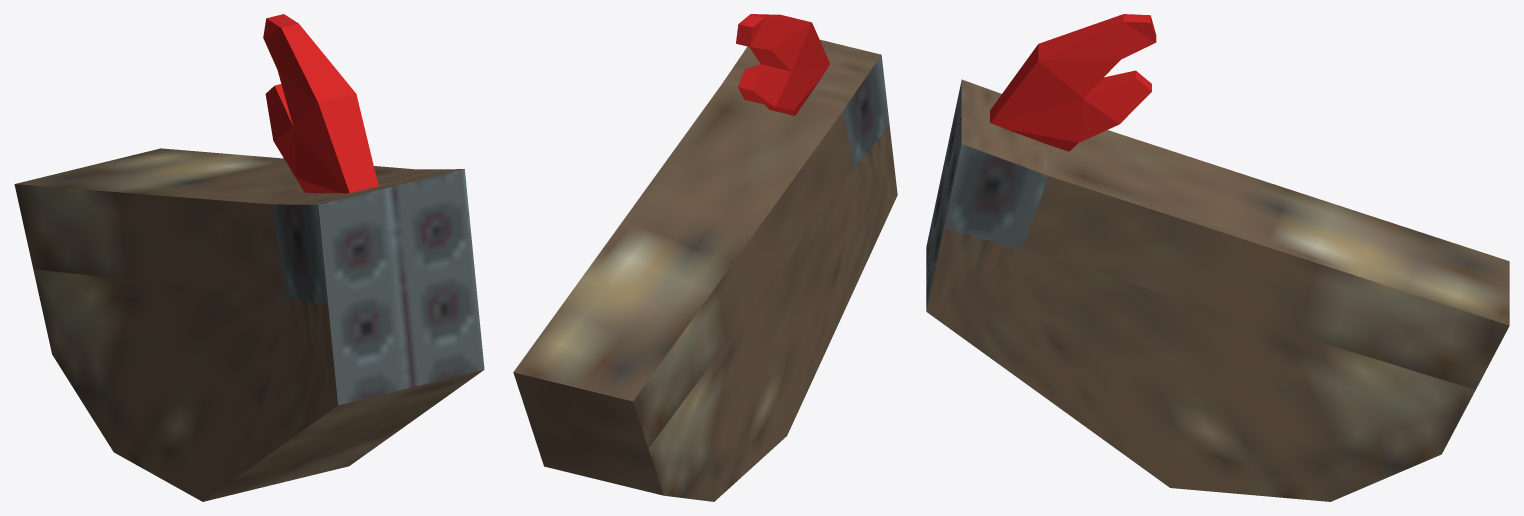
Rendered from hen-02.obj.
3 views of the same model, side by side, from view 1: azimuth 30°, elevation 25°; view 2: azimuth 150°, elevation 25°; view 3: azimuth 270°, elevation 25° (orthographic). The views are drawn at different scales.
Visible parts, largest first — view 1: Plane; view 2: Plane; view 3: Plane.
Part boxes in pixels (x1,y1,x2,y2): Plane: (14,14,484,501); Plane: (513,14,897,501); Plane: (926,14,1509,501).
Size of the model in its own units: 0.2397 by 0.7749 by 0.9172.
